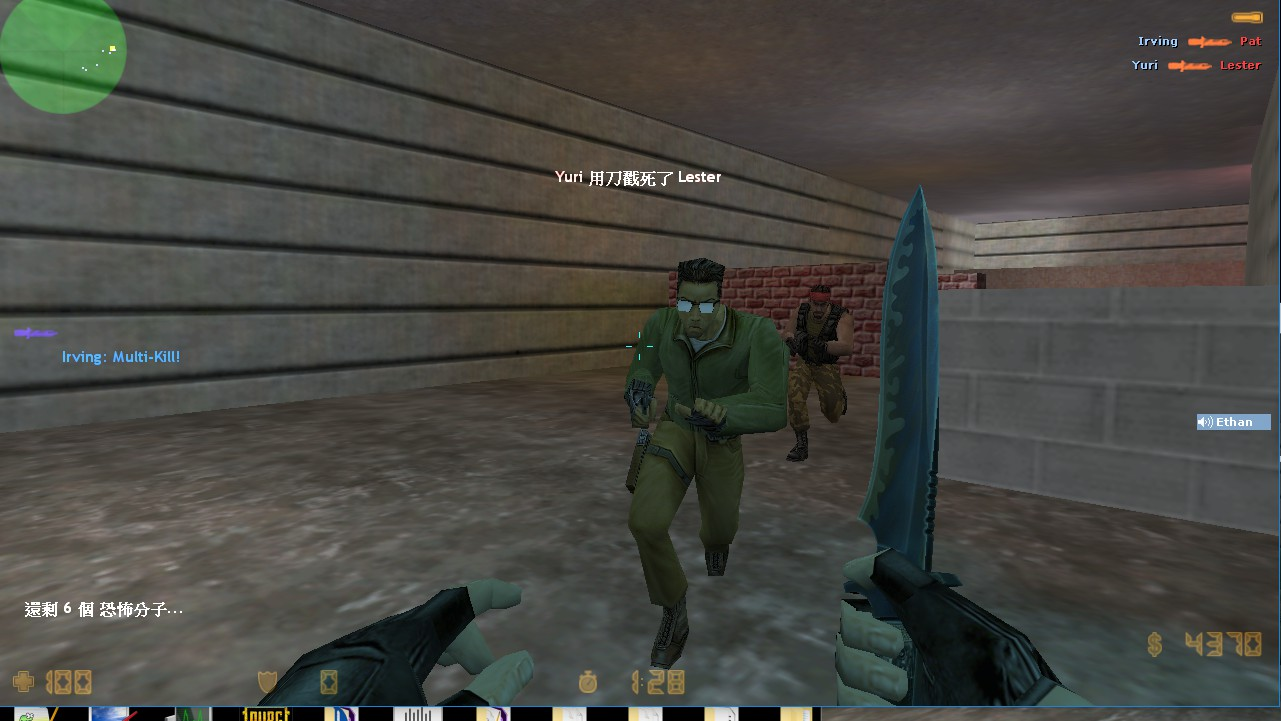person: (625, 253, 784, 677), (784, 281, 851, 463)
